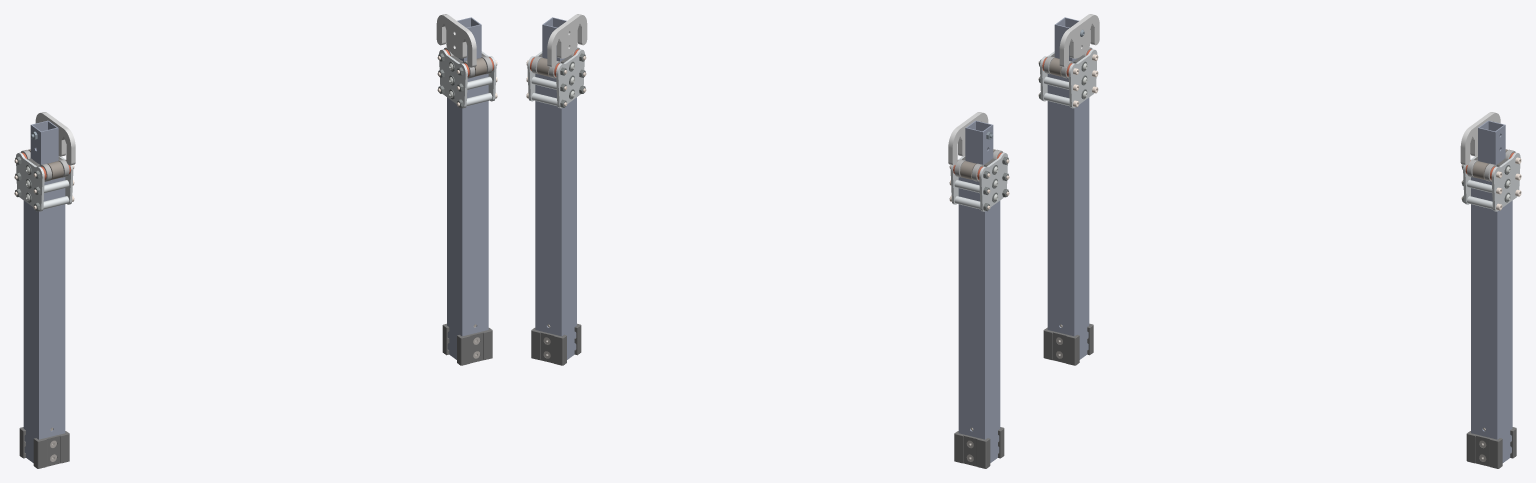
3 views of the same model, side by side, from view 1: azimuth 30°, elevation 25°; view 2: azimuth 150°, elevation 25°; view 3: azimuth 330°, elevation 25° (orthographic).
Visible parts, largest first — view 1: Stage One Tube (×2), Hook plate (×2), am-4631 1.5x1.5 Clamp Slider Block (×2), am-4644 Climber In A Box 1.5IN Bearing Plate (×2), Stage Two Tube; view 2: Stage One Tube (×2), Hook plate (×2), am-4631 1.5x1.5 Clamp Slider Block (×2), am-4644 Climber In A Box 1.5IN Bearing Plate (×2), Stage Two Tube; view 3: Stage One Tube (×2), Hook plate (×2), am-4631 1.5x1.5 Clamp Slider Block (×2), am-4644 Climber In A Box 1.5IN Bearing Plate (×2), Stage Two Tube.
Boxes of the visible parts, x1=… form: Stage One Tube (×2): x1=23, y1=74, x2=488, y2=462; Hook plate (×2): x1=35, y1=14, x2=476, y2=165; am-4631 1.5x1.5 Clamp Slider Block (×2): x1=33, y1=328, x2=492, y2=468; am-4644 Climber In A Box 1.5IN Bearing Plate (×2): x1=16, y1=49, x2=467, y2=211; Stage Two Tube: x1=30, y1=120, x2=58, y2=164; Stage One Tube (×2): x1=535, y1=74, x2=1000, y2=462; Hook plate (×2): x1=547, y1=14, x2=988, y2=165; am-4631 1.5x1.5 Clamp Slider Block (×2): x1=531, y1=328, x2=990, y2=468; am-4644 Climber In A Box 1.5IN Bearing Plate (×2): x1=556, y1=49, x2=1007, y2=211; Stage Two Tube: x1=965, y1=120, x2=993, y2=165; Stage One Tube (×2): x1=1047, y1=74, x2=1512, y2=462; Hook plate (×2): x1=1059, y1=14, x2=1500, y2=165; am-4631 1.5x1.5 Clamp Slider Block (×2): x1=1043, y1=327, x2=1502, y2=468; am-4644 Climber In A Box 1.5IN Bearing Plate (×2): x1=1068, y1=49, x2=1520, y2=211; Stage Two Tube: x1=1478, y1=120, x2=1505, y2=165.
Size of the model in its own units: 0.6652 by 0.461 by 0.0889.
